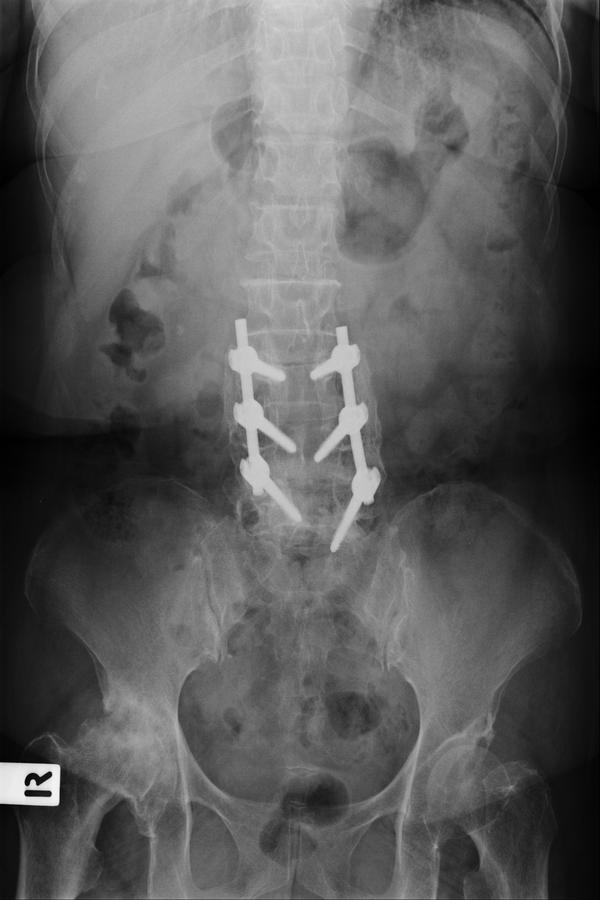lumbar scoliosis: (236, 184, 374, 619)
